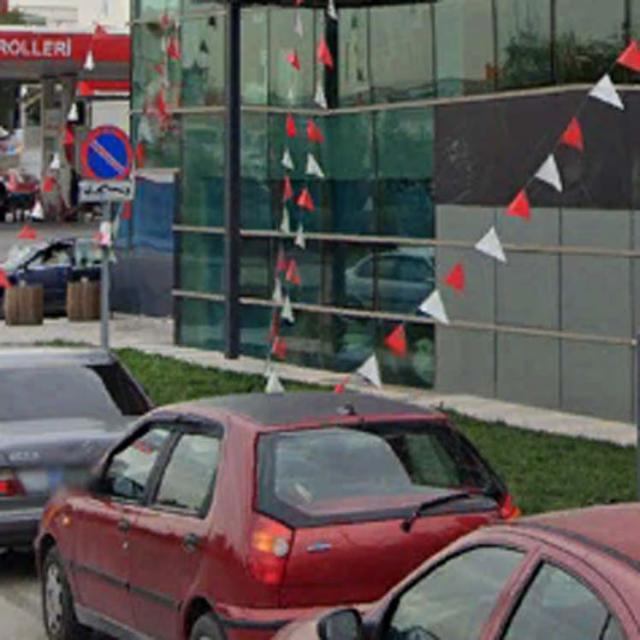parkyasak: (82, 126, 133, 182)
